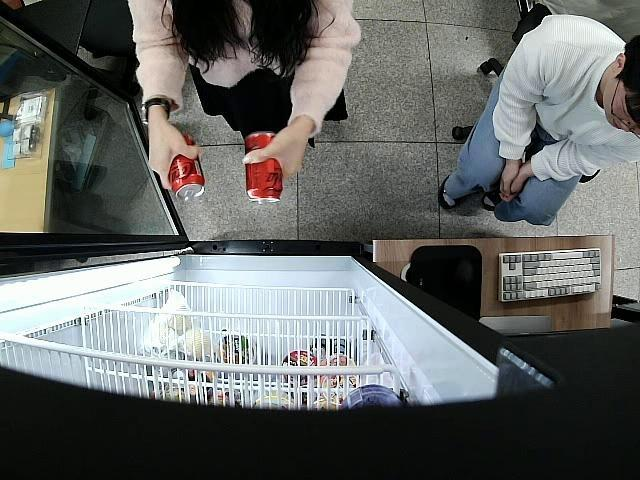11_cocaColaZero: (246, 130, 286, 204), (167, 132, 206, 202)
